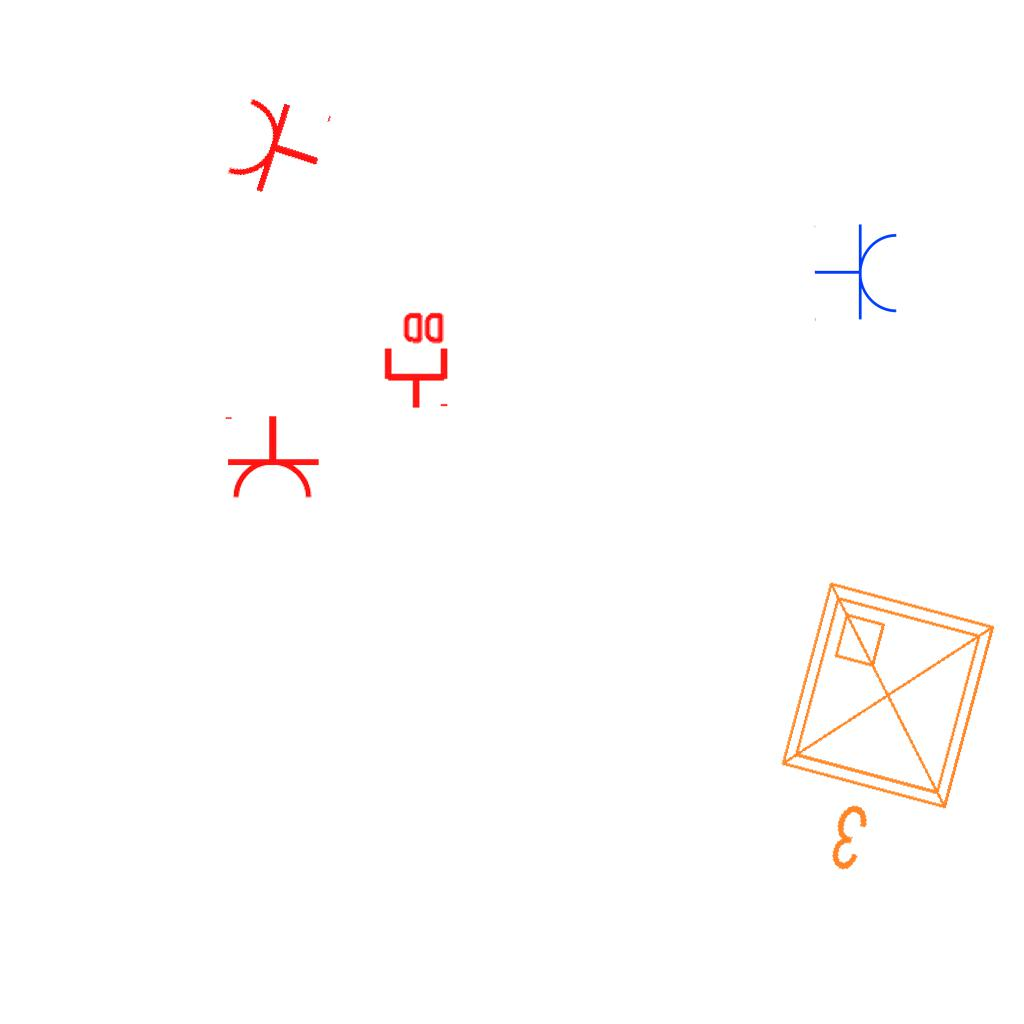Datenanschluss_zweifach: (380, 308, 449, 411)
Einbaudownlights_LED_Konferenzraeume: (741, 564, 1021, 908)
Schukosteckdose_einfach: (221, 86, 336, 208), (814, 223, 901, 323), (221, 414, 321, 501)
